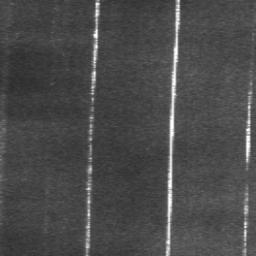Bright scratch: (84, 0, 100, 256), (165, 0, 181, 256), (245, 81, 253, 170), (243, 184, 249, 256)
